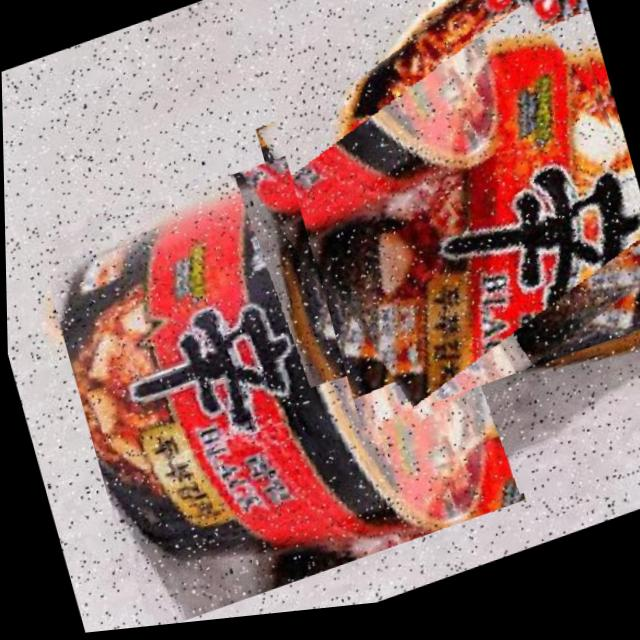Miscellaneous: (33, 106, 533, 636), (258, 0, 640, 442)
